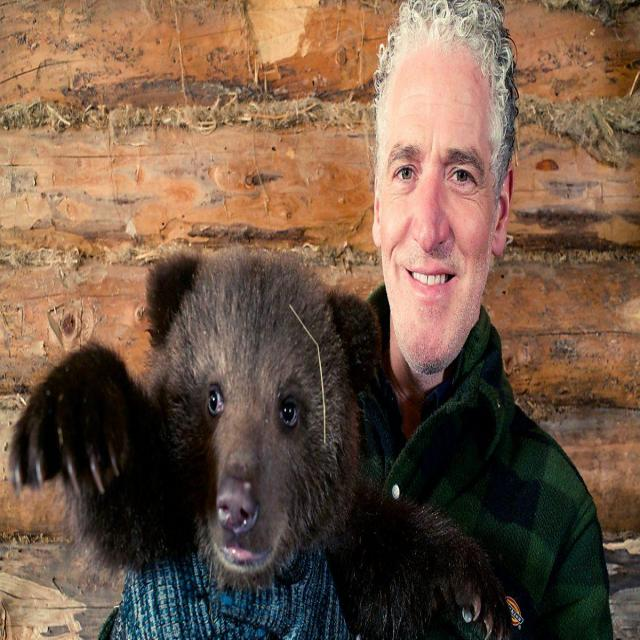Bear: (8, 249, 517, 640)
